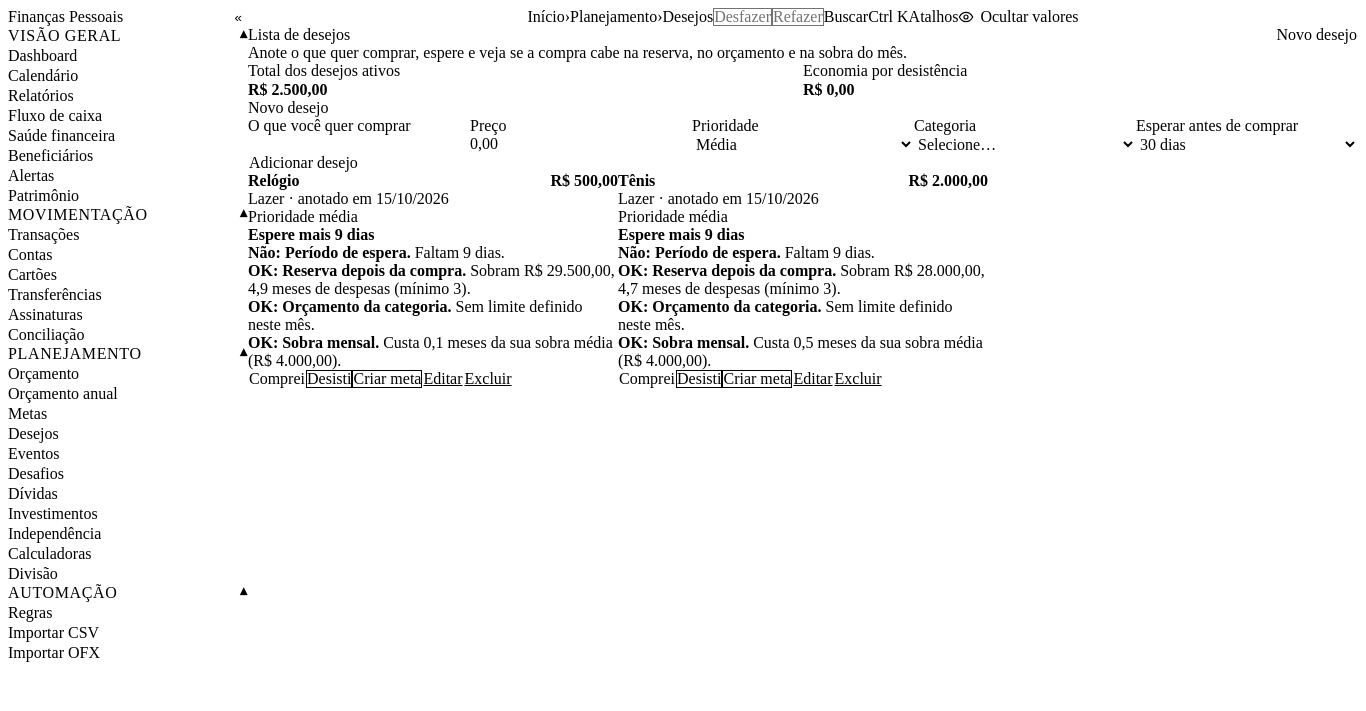
Test: desejos: tela › critérios 5, 6 e 7: comprar pela tela, desistir e ver os concluídos
The image size is (1366, 711).
Click the button with aria-label "Comprei Tênis" at (647, 379), box x1=618 y1=370 x2=676 y2=388
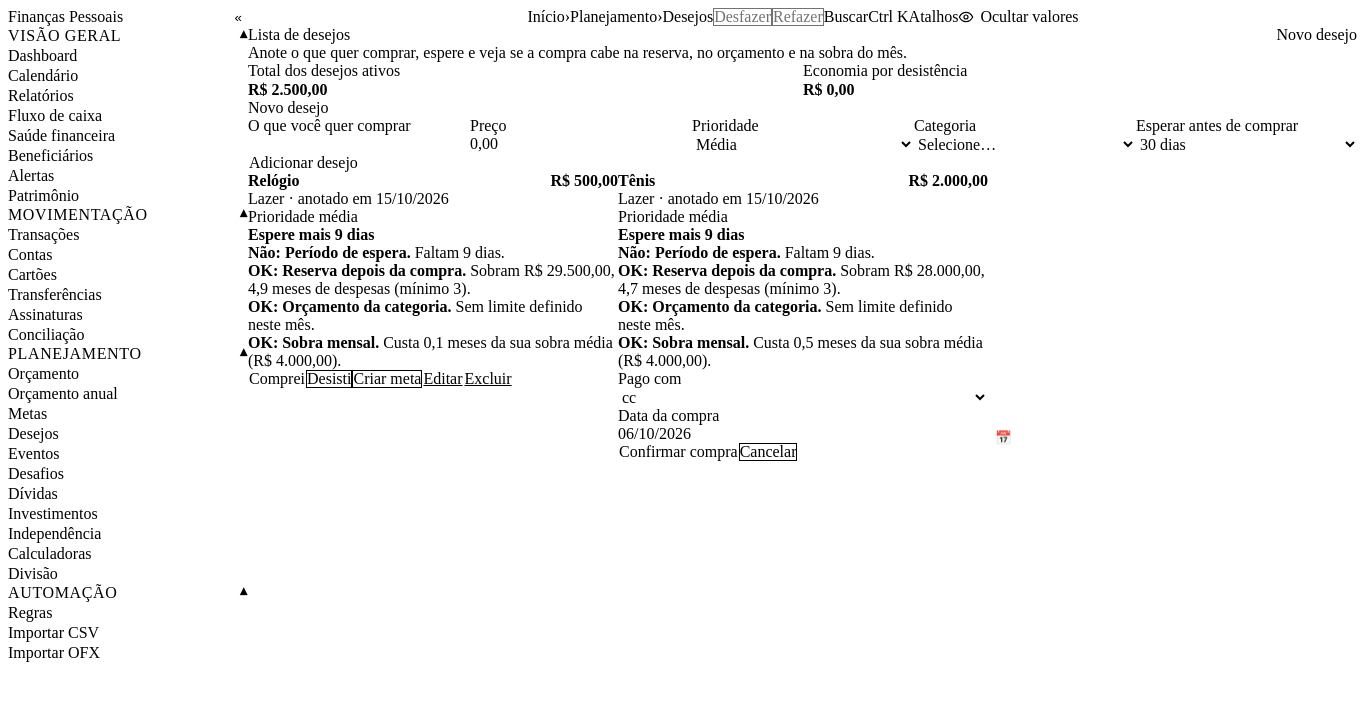
Select "cc" in the dropdown labelled "Pago com" at (803, 398), box x1=618 y1=388 x2=988 y2=407
Click the button "Confirmar compra" at (678, 452), box x1=618 y1=443 x2=739 y2=461
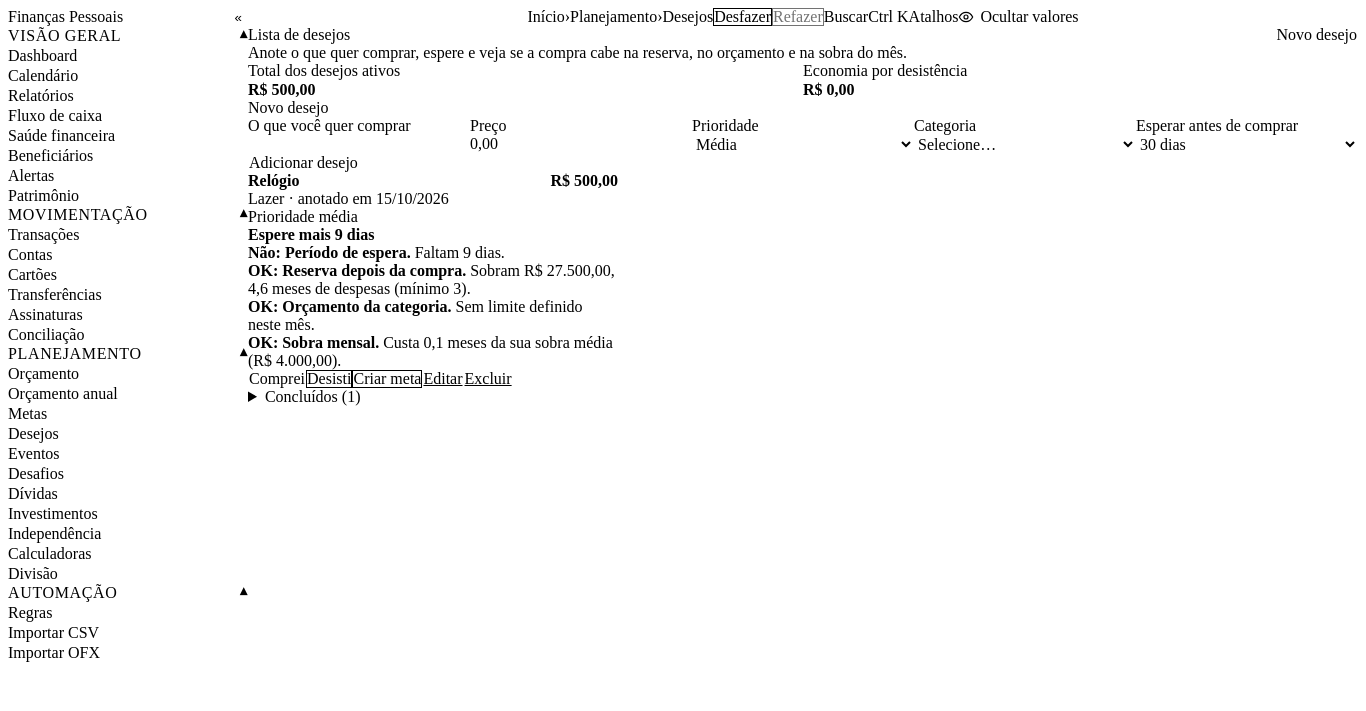
Click the button with aria-label "Desisti de Relógio" at (329, 379), box x1=306 y1=370 x2=352 y2=388
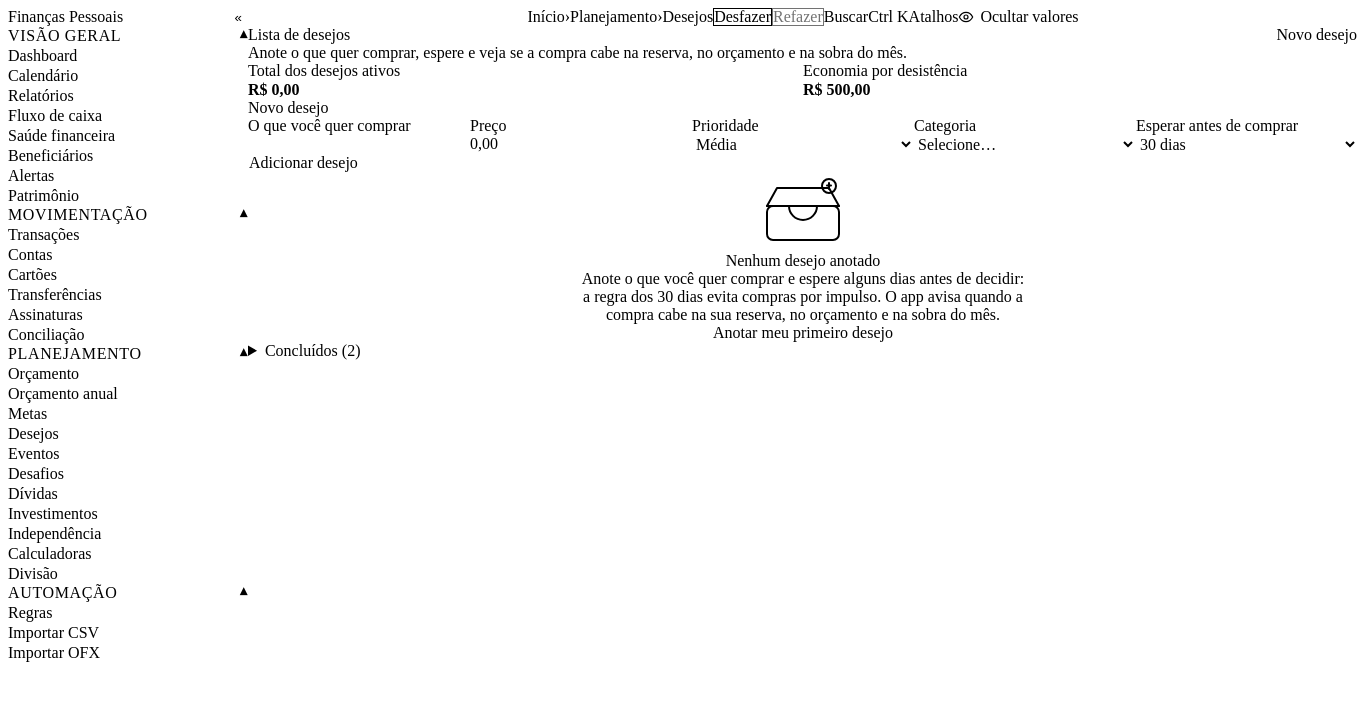
Result: the text with test id "economia" reads "R$ 500,00" at x1=803 y1=81 x2=871 y2=98
Click the heading "Concluídos (2)" at (313, 351), box x1=265 y1=342 x2=360 y2=359
(page scrolled)
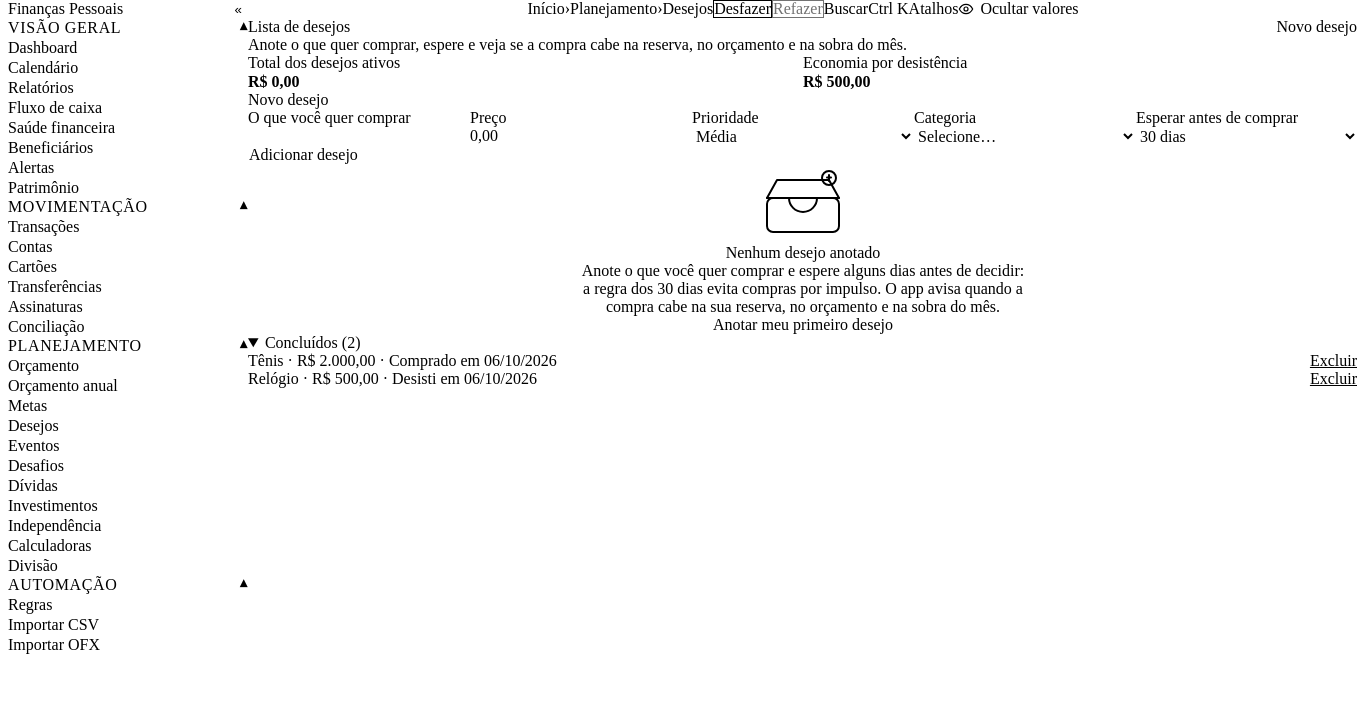
Result: the text "Tênis · R$ 2.000,00 · Comprado em 06/10/2026" is shown at x1=248 y1=352 x2=557 y2=370
Result: the text "Relógio · R$ 500,00 · Desisti em 06/10/2026" is shown at x1=248 y1=370 x2=537 y2=388
